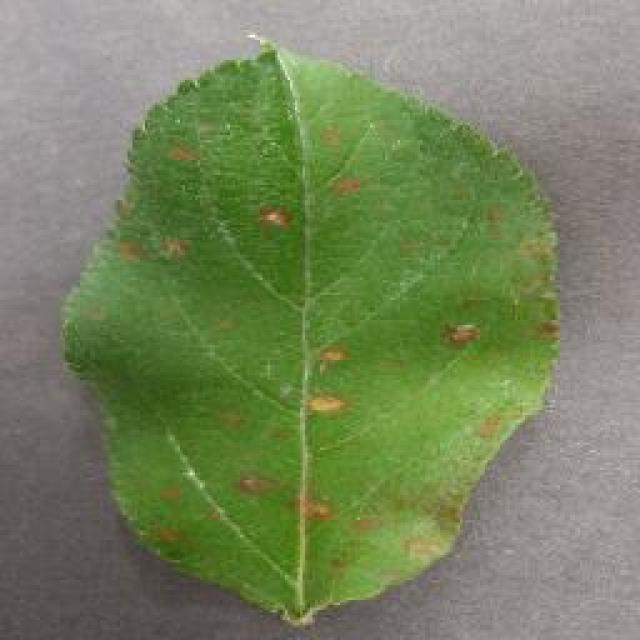App_Cedar_apple_rust: (222, 453, 344, 538), (284, 338, 368, 440), (439, 296, 495, 375), (246, 185, 308, 237), (321, 154, 379, 206)
